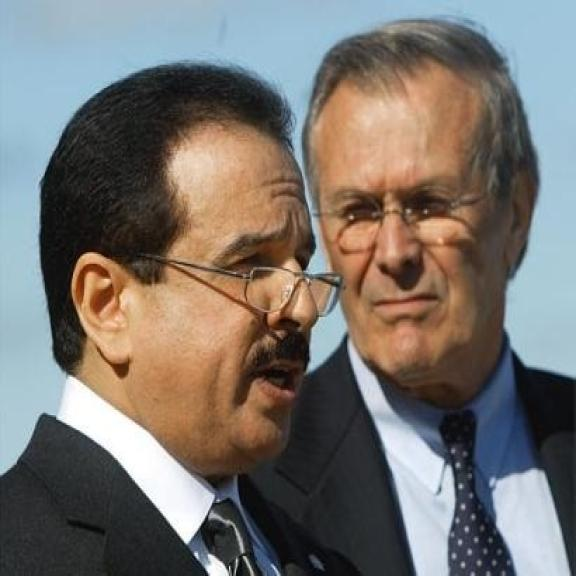face: (69, 85, 344, 482), (306, 29, 538, 392)
